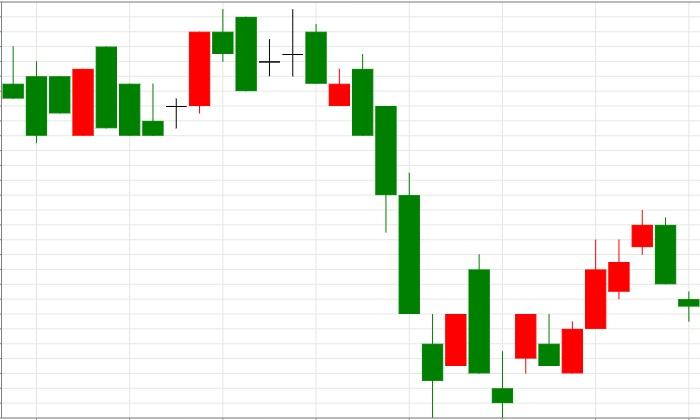morning_star_rise: (352, 55, 536, 418)
